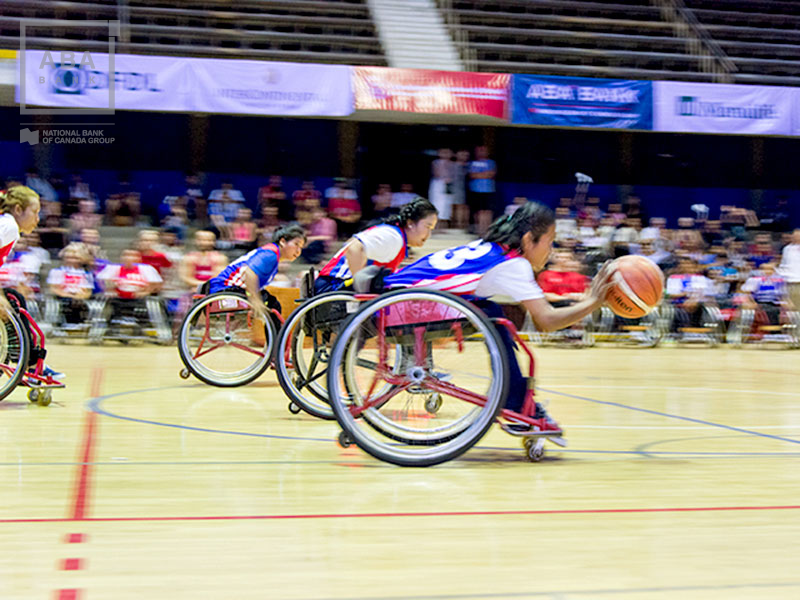ball: (601, 255, 668, 319)
player: (337, 200, 615, 459), (280, 198, 440, 410), (178, 225, 310, 385), (1, 186, 61, 410)
